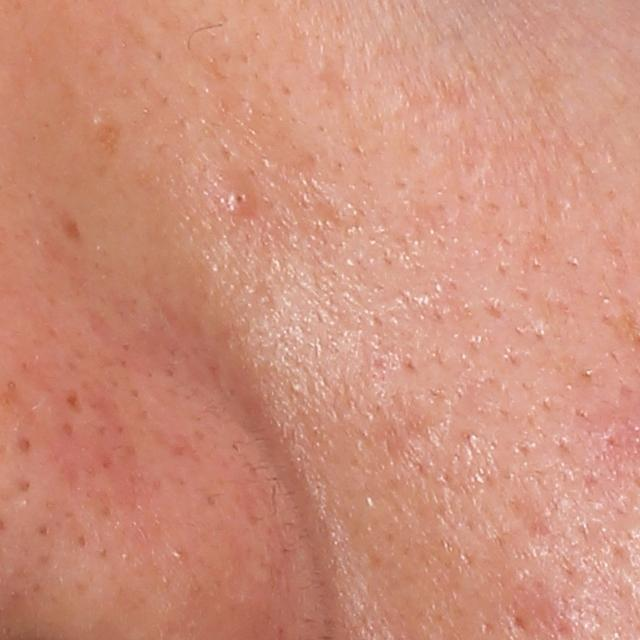comedo: (212, 175, 253, 224)
